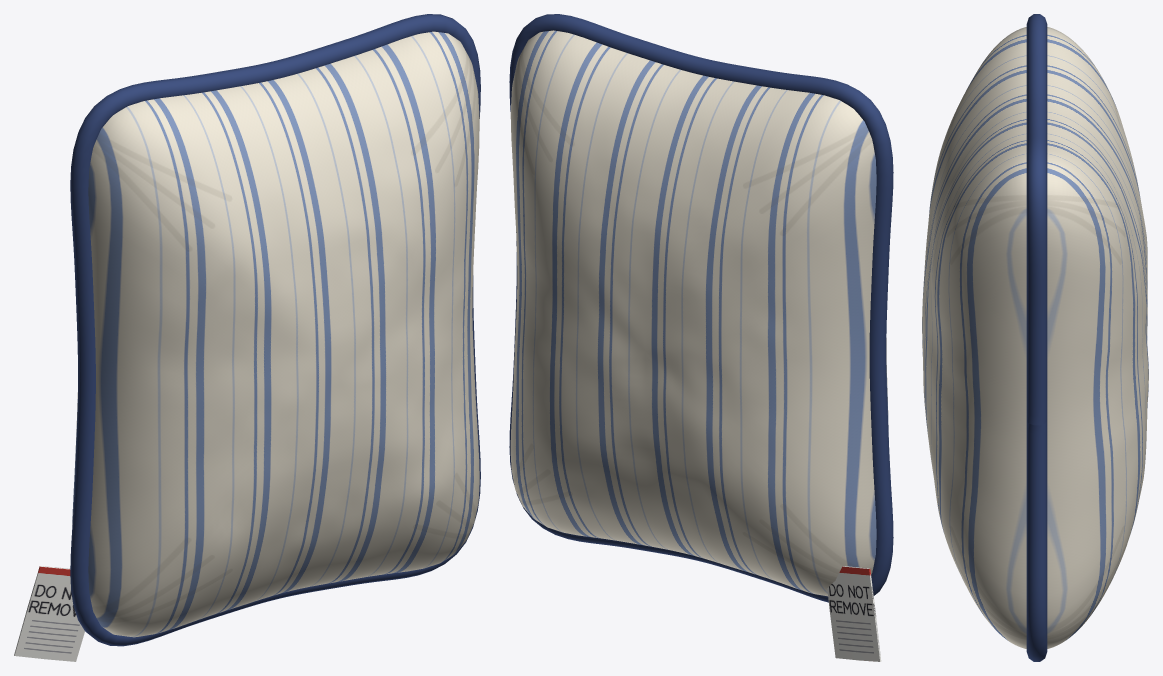
The model's file is pillow.glb.
3 views of the same model, side by side, from view 1: azimuth 30°, elevation 25°; view 2: azimuth 150°, elevation 25°; view 3: azimuth 270°, elevation 25° (orthographic). The views are drawn at different scales.
Parts seen in each view (by area): view 1: pillow; view 2: pillow; view 3: pillow.
Part boxes in pixels (box(x1,y1,x2,y2)): pillow: box(14, 14, 480, 661); pillow: box(509, 14, 893, 661); pillow: box(922, 14, 1148, 661).
Bounding box in the file's own units: 0.6233 × 0.8147 × 0.312.
Materials: 3 (2 with a texture image).
